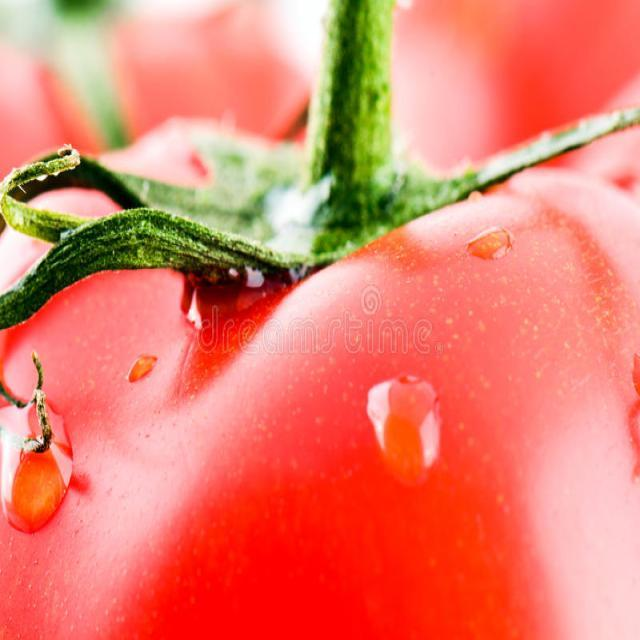kirmizi: (6, 64, 636, 640)
